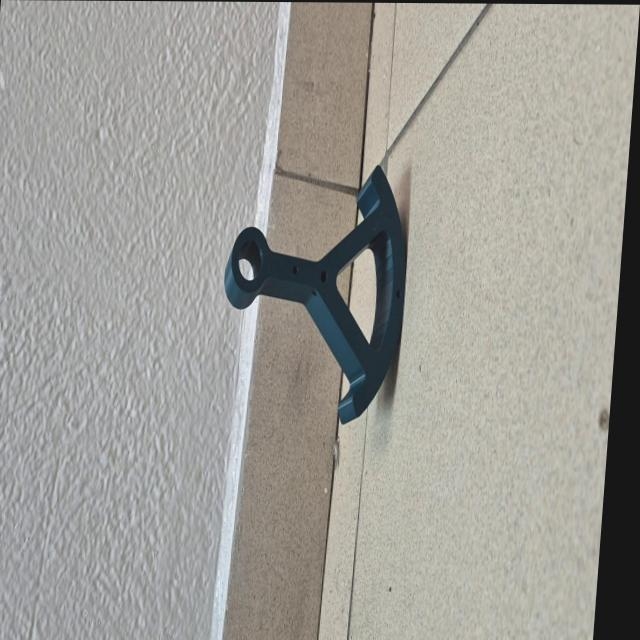haptic: (211, 162, 415, 426)
